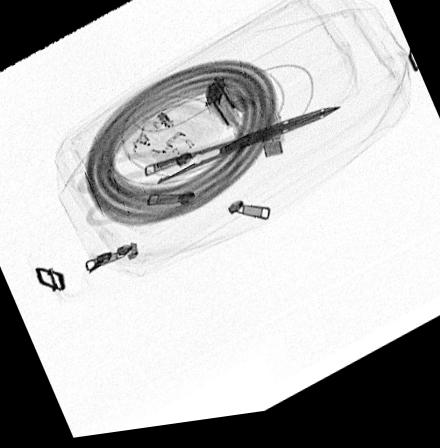Scissors: (75, 110, 347, 236)
